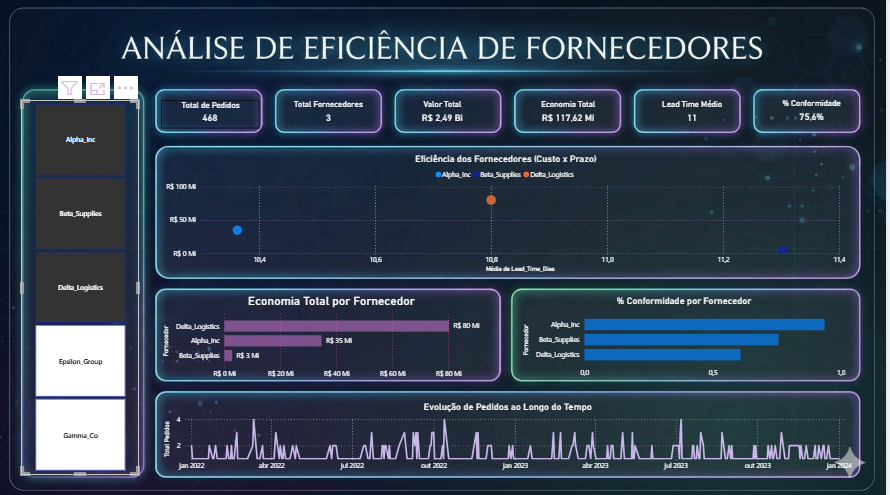

The dashboard page shown, as its layout file describes it:
{"tool":"powerbi","page":{"name":"Visão Executiva","canvas":[1600,900],"ordinal":0},"visuals":[{"type":"card","title":"Total de Pedidos","fields":{"Values":["Base_Contratos.Total Pedidos"]},"box":[292.9,181.6,176.7,50.7],"z":0},{"type":"card","title":"Total Fornecedores","fields":{"Values":["Base_Contratos.Total Fornecedores"]},"box":[504,181.6,181.6,47.5],"z":1000},{"type":"card","title":"Valor Total","fields":{"Values":["Base_Contratos.Valor Total"]},"box":[716.7,181.6,166.9,47.5],"z":2000},{"type":"card","title":"Lead Time Médio","fields":{"Values":["Avg(Base_Contratos.Lead_Time_Dias)"]},"box":[1170,181.6,158.7,47.5],"z":3000},{"type":"card","title":"% Conformidade","fields":{"Values":["Base_Contratos.% Conformidade"]},"box":[1400.5,180.6,128.1,48.3],"z":4000},{"type":"card","title":"Economia Total","fields":{"Values":["Base_Contratos.Economia Total"]},"box":[939.3,181.6,173.5,47.5],"z":5000},{"type":"clusteredBarChart","fields":{"Category":["Base_Contratos.Fornecedor"],"Y":["Base_Contratos.Economia Total"]},"box":[291.9,531.2,617.3,161.7],"z":6000},{"type":"scatterChart","title":"Eficiência dos Fornecedores (Custo x Prazo)","fields":{"X":["Avg(Base_Contratos.Lead_Time_Dias)"],"Y":["Base_Contratos.Economia Total"],"Series":["Base_Contratos.Fornecedor"],"Size":["Base_Contratos.Valor Total"]},"box":[296.2,276.5,1233.8,219.3],"z":7000},{"type":"barChart","fields":{"Category":["Base_Contratos.Fornecedor"],"Y":["Base_Contratos.% Conformidade"]},"box":[939.3,533.5,590.7,158.7],"z":8000},{"type":"lineChart","title":"Evolução de Pedidos ao Longo do Tempo","fields":{"Y":["Base_Contratos.Total Pedidos"],"Category":["Base_Contratos.Data_Pedido"]},"box":[292.9,723.3,1248.5,134.2],"z":9000},{"type":"slicer","fields":{"Values":["Base_Contratos.Fornecedor"]},"box":[42,182.7,212.1,674],"z":9001}]}

Visuals, with their boxes in screenshot pixels (x1, y1, x2, y2), scaled from the page's 1600x900 canvas onto the 890x495 screenshot:
"Total de Pedidos" card: (left=163, top=100, right=261, bottom=128)
"Total Fornecedores" card: (left=280, top=100, right=381, bottom=126)
"Valor Total" card: (left=399, top=100, right=492, bottom=126)
"Lead Time Médio" card: (left=651, top=100, right=739, bottom=126)
"% Conformidade" card: (left=779, top=99, right=850, bottom=126)
"Economia Total" card: (left=522, top=100, right=619, bottom=126)
clusteredBarChart - Base_Contratos.Fornecedor x Base_Contratos.Economia Total: (left=162, top=292, right=506, bottom=381)
"Eficiência dos Fornecedores (Custo x Prazo)" scatterChart: (left=165, top=152, right=851, bottom=273)
barChart - Base_Contratos.Fornecedor x Base_Contratos.% Conformidade: (left=522, top=293, right=851, bottom=381)
"Evolução de Pedidos ao Longo do Tempo" lineChart: (left=163, top=398, right=857, bottom=472)
slicer - Base_Contratos.Fornecedor: (left=23, top=100, right=141, bottom=471)
